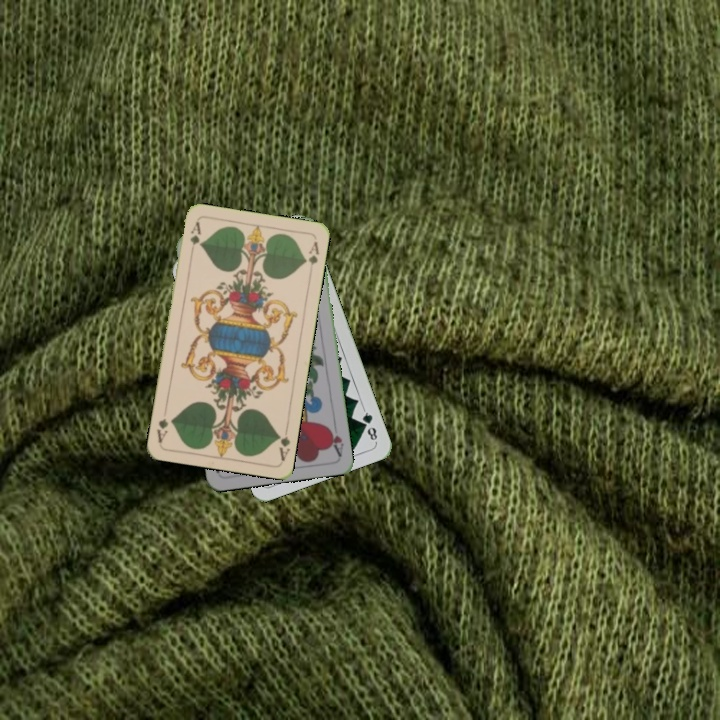G8: (358, 406, 380, 445)
GA: (273, 423, 293, 463), (186, 218, 203, 258)
HA: (324, 418, 346, 458)
